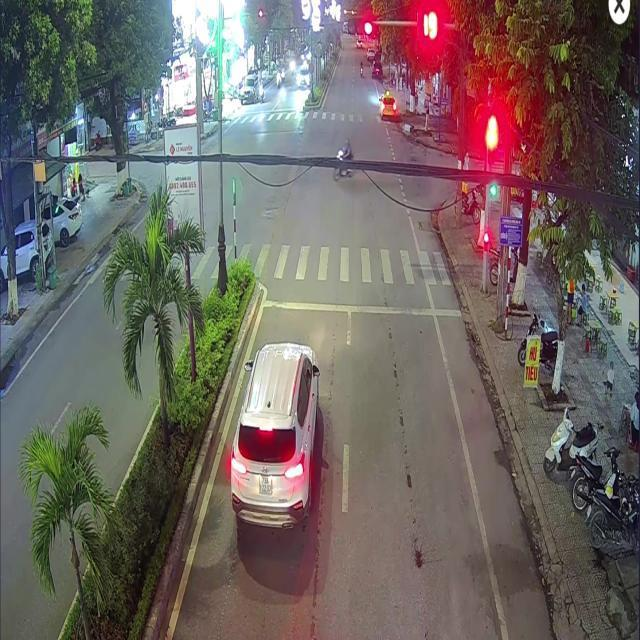car: (230, 342, 318, 527), (380, 97, 394, 120)
motobike: (332, 152, 351, 180)
red_light: (346, 15, 373, 36), (486, 132, 495, 168), (483, 233, 487, 251)
stop_line: (263, 299, 460, 315)
